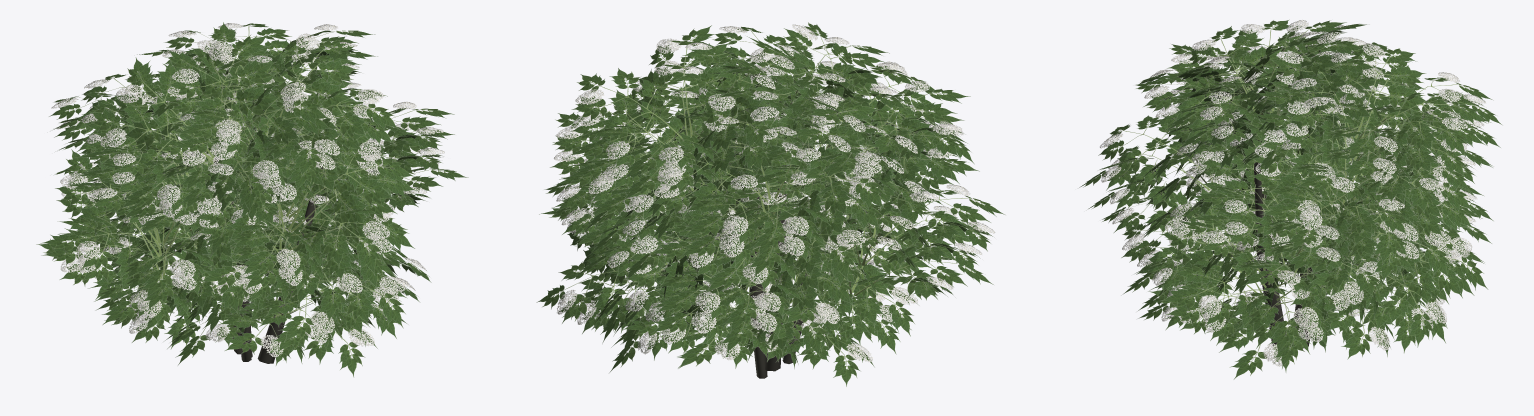
The model's file is bezeg_veja_png.gltf.
3 views of the same model, side by side, from view 1: azimuth 30°, elevation 25°; view 2: azimuth 150°, elevation 25°; view 3: azimuth 270°, elevation 25° (orthographic). The views are drawn at different scales.
Parts seen in each view (by area): view 1: bezeg_veja.006, bezeg_veja.007, bezeg_veja.015, bezeg_veja.010, bezeg_veja.003, bezeg_veja.012, bezeg_veja.009, bezeg_veja.008, bezeg_veja.001, bezeg_veja.005, bezeg_veja.004, bezeg_veja.017 (+1 smaller); view 2: bezeg_veja.005, bezeg_veja.008, bezeg_veja.017, bezeg_veja.012, bezeg_veja.007, bezeg_veja.010, bezeg_veja.009, bezeg_veja.015, bezeg_veja.011, bezeg_veja.002, bezeg_veja.001, bezeg_veja.006 (+3 smaller); view 3: bezeg_veja.008, bezeg_veja.001, bezeg_veja.015, bezeg_veja.002, bezeg_veja.004, bezeg_veja.011, bezeg_veja.006, bezeg_veja.003, bezeg_veja.005, bezeg_veja.012, bezeg_veja.007, bezeg_veja.017 (+3 smaller).
Part boxes in pixels (left/top/right/bottom): bezeg_veja.006: left=169, top=100, right=417, bottom=322; bezeg_veja.007: left=89, top=34, right=332, bottom=255; bezeg_veja.015: left=152, top=22, right=399, bottom=207; bezeg_veja.010: left=36, top=131, right=281, bottom=325; bezeg_veja.003: left=169, top=174, right=407, bottom=377; bezeg_veja.012: left=65, top=87, right=300, bottom=235; bezeg_veja.009: left=95, top=174, right=318, bottom=365; bezeg_veja.008: left=137, top=23, right=387, bottom=131; bezeg_veja.001: left=254, top=102, right=468, bottom=229; bezeg_veja.005: left=49, top=52, right=281, bottom=180; bezeg_veja.004: left=259, top=190, right=431, bottom=327; bezeg_veja.017: left=88, top=152, right=292, bottom=265; bezeg_veja.005: left=643, top=73, right=898, bottom=292; bezeg_veja.008: left=559, top=25, right=815, bottom=222; bezeg_veja.017: left=614, top=179, right=870, bottom=368; bezeg_veja.012: left=734, top=69, right=979, bottom=230; bezeg_veja.007: left=732, top=22, right=974, bottom=218; bezeg_veja.010: left=762, top=148, right=1005, bottom=300; bezeg_veja.009: left=689, top=189, right=922, bottom=386; bezeg_veja.015: left=663, top=26, right=914, bottom=152; bezeg_veja.011: left=536, top=128, right=780, bottom=372; bezeg_veja.002: left=544, top=102, right=773, bottom=280; bezeg_veja.001: left=539, top=70, right=765, bottom=248; bezeg_veja.006: left=725, top=64, right=967, bottom=198; bezeg_veja.008: left=1245, top=37, right=1487, bottom=213; bezeg_veja.001: left=1177, top=138, right=1420, bottom=296; bezeg_veja.015: left=1135, top=20, right=1382, bottom=175; bezeg_veja.002: left=1245, top=89, right=1474, bottom=297; bezeg_veja.004: left=1148, top=159, right=1392, bottom=379; bezeg_veja.011: left=1260, top=139, right=1488, bottom=359; bezeg_veja.006: left=1079, top=65, right=1292, bottom=238; bezeg_veja.003: left=1121, top=161, right=1332, bottom=330; bezeg_veja.005: left=1269, top=36, right=1502, bottom=183; bezeg_veja.012: left=1159, top=19, right=1396, bottom=170; bezeg_veja.007: left=1139, top=23, right=1385, bottom=140; bezeg_veja.017: left=1285, top=138, right=1493, bottom=279.
Bounding box in the file's own units: 3.65 × 2.58 × 3.42.
Materials: 3 (2 with a texture image).
